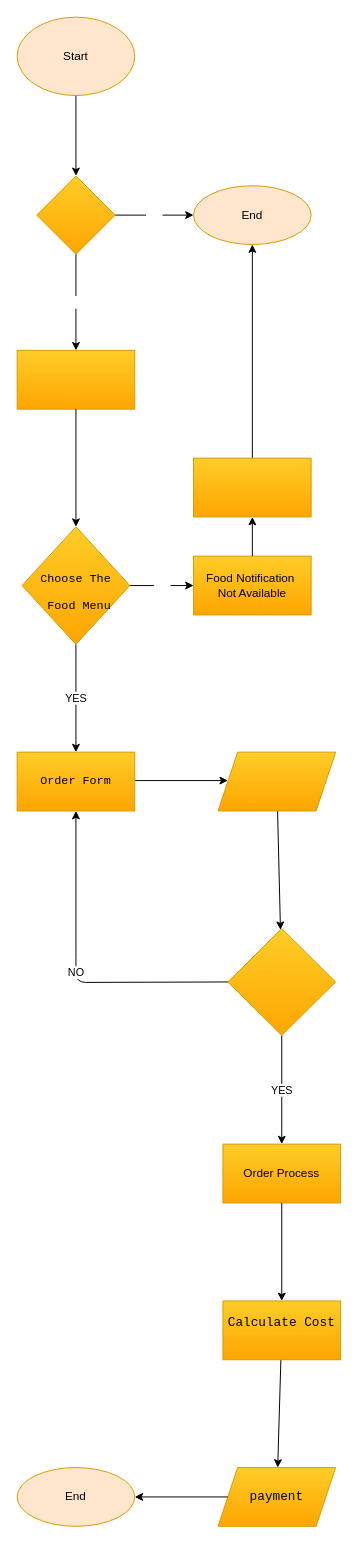
Image size: 358x1552. Some labels were removed from this diagram. Each missing label, with the box of its shape:
Cancel Order: (193, 457, 311, 517)
Choose Order Form: (217, 751, 336, 811)
Final Check Order: (227, 928, 336, 1035)
Food Menu: (16, 349, 135, 409)
Order!: (36, 175, 115, 254)
